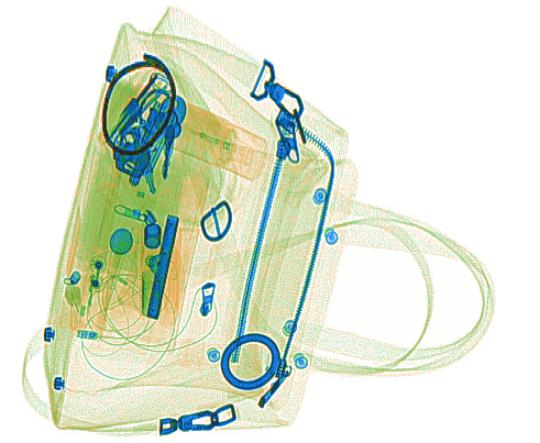plasticBottleWithaNozzle: (141, 92, 270, 182)
